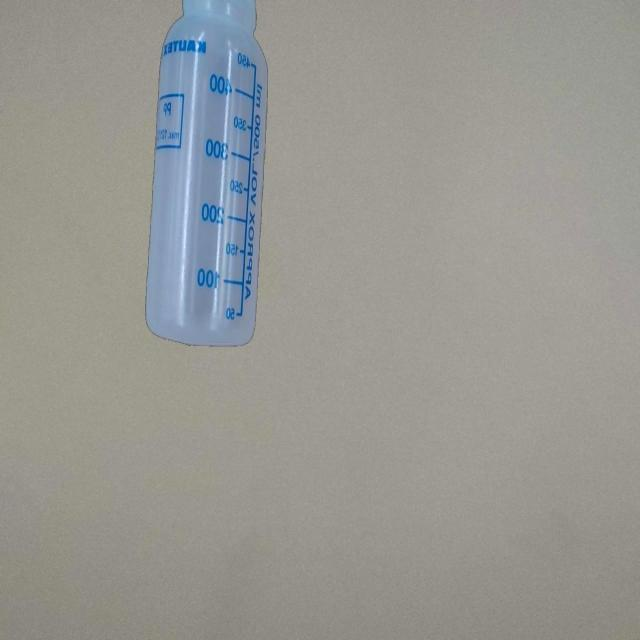bottle: (145, 0, 271, 350)
